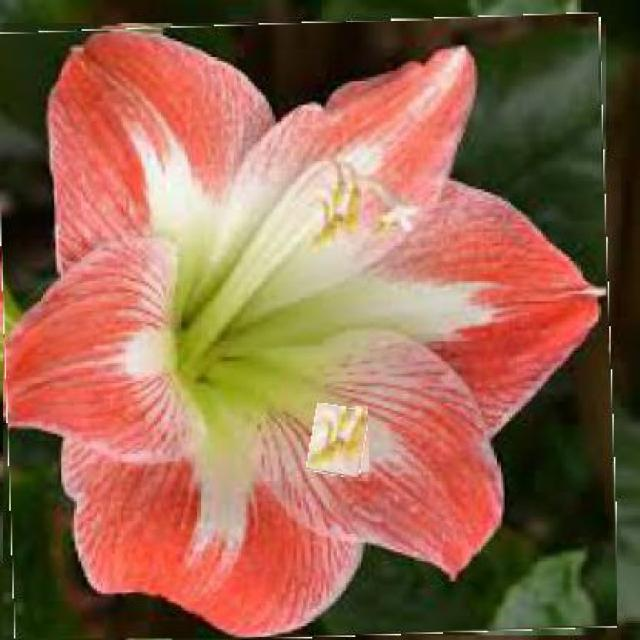Flower: (0, 17, 614, 638), (310, 405, 367, 478)
